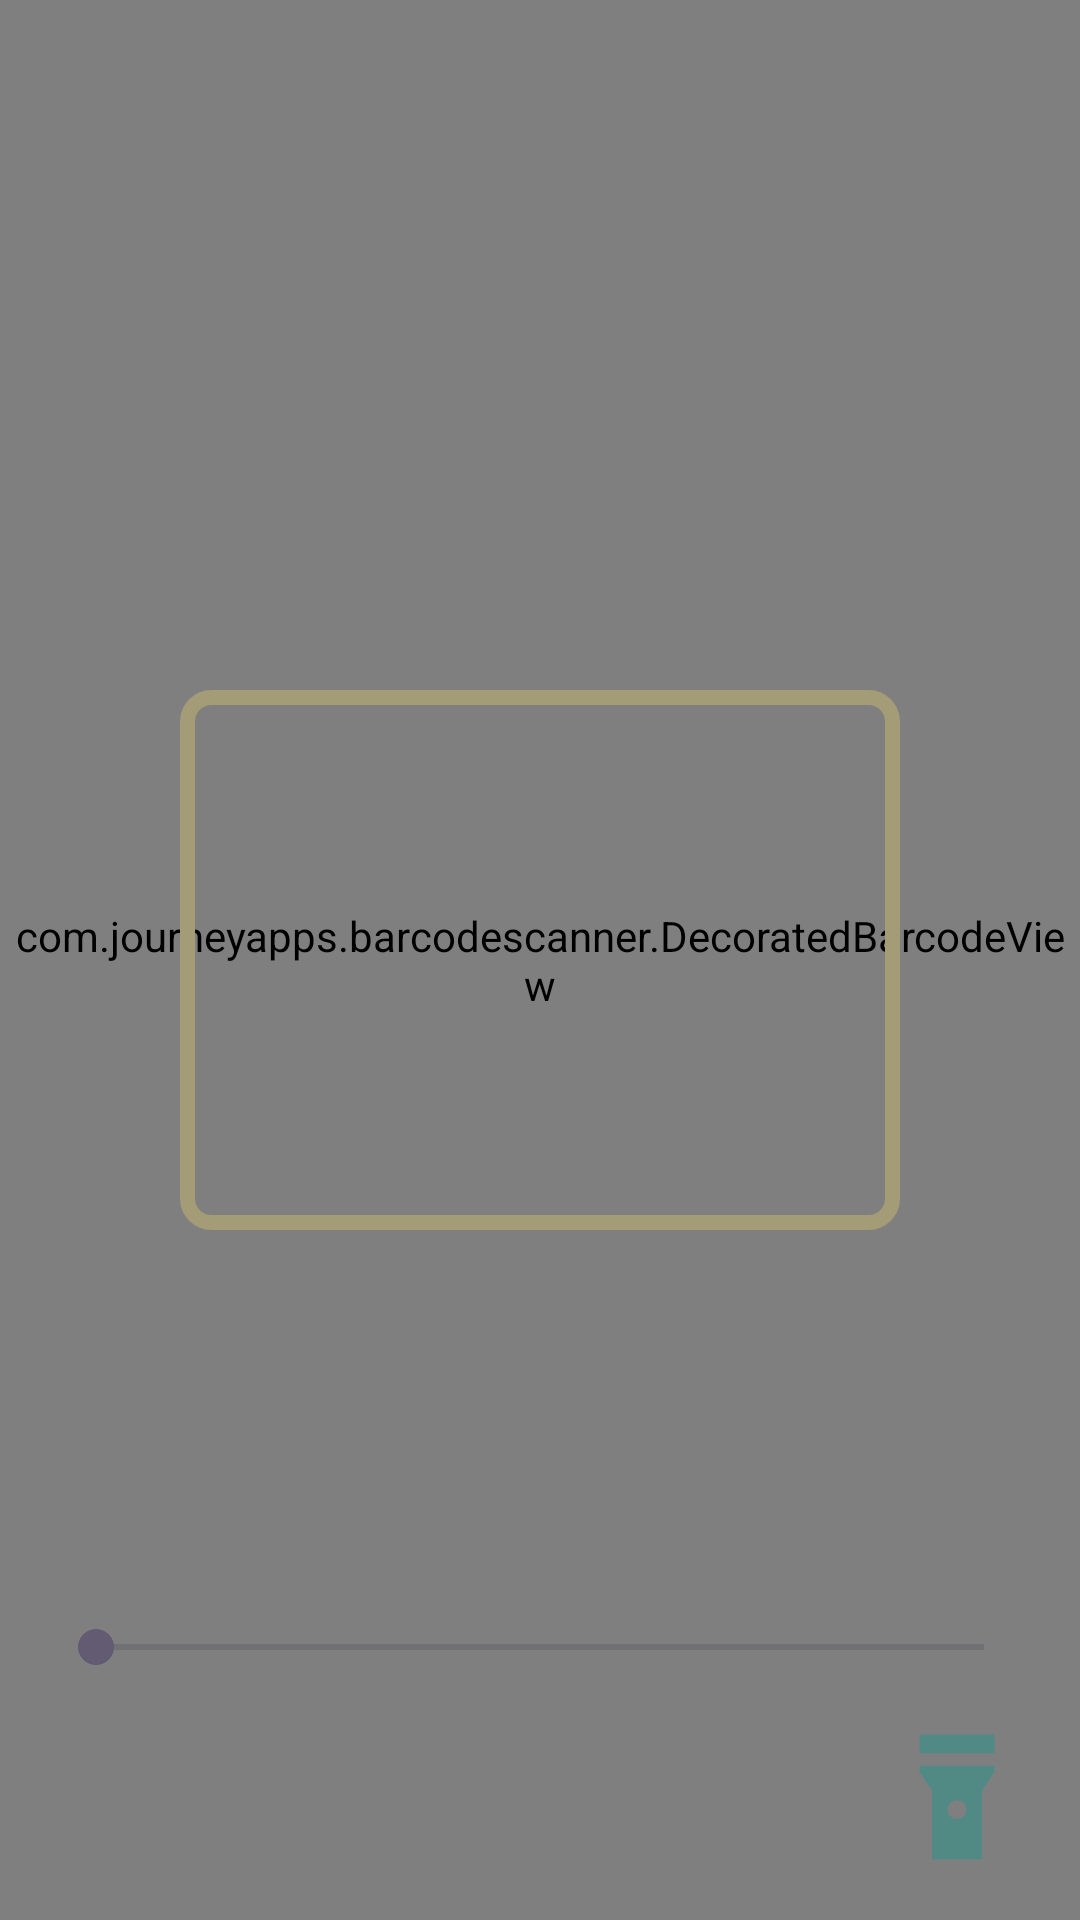

Point at icon controls on the screen. Image size 1080*1920, points as (x=x, y=y).
flashlight on: (x=957, y=1797)
